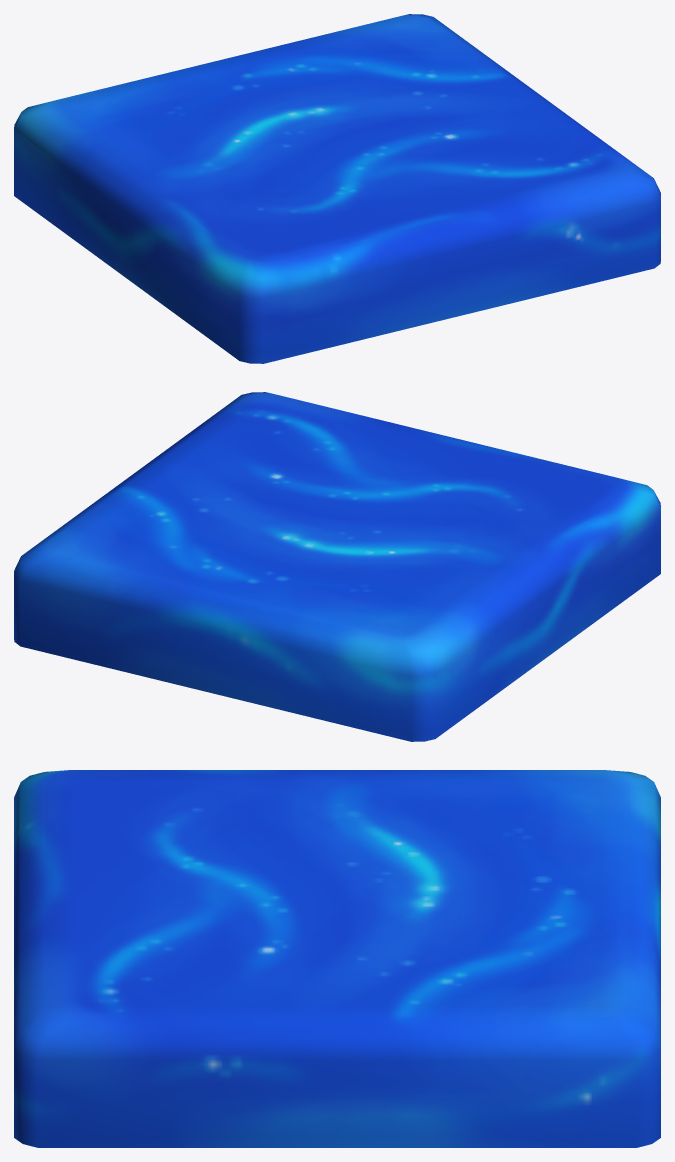
File: Block_Cap_Water.fbx
3 renders of one model, top to bottom at view 1: azimuth 30°, elevation 25°; view 2: azimuth 150°, elevation 25°; view 3: azimuth 270°, elevation 25°, orthographic. The views are drawn at different scales.
Visible parts, largest first — view 1: Block_Cap_Water; view 2: Block_Cap_Water; view 3: Block_Cap_Water.
Boxes of the visible parts, left/top/right/bottom form: Block_Cap_Water: left=14, top=14, right=660, bottom=363; Block_Cap_Water: left=14, top=392, right=660, bottom=741; Block_Cap_Water: left=14, top=770, right=660, bottom=1147.
Bounding box in the file's own units: 100 × 20 × 100.
